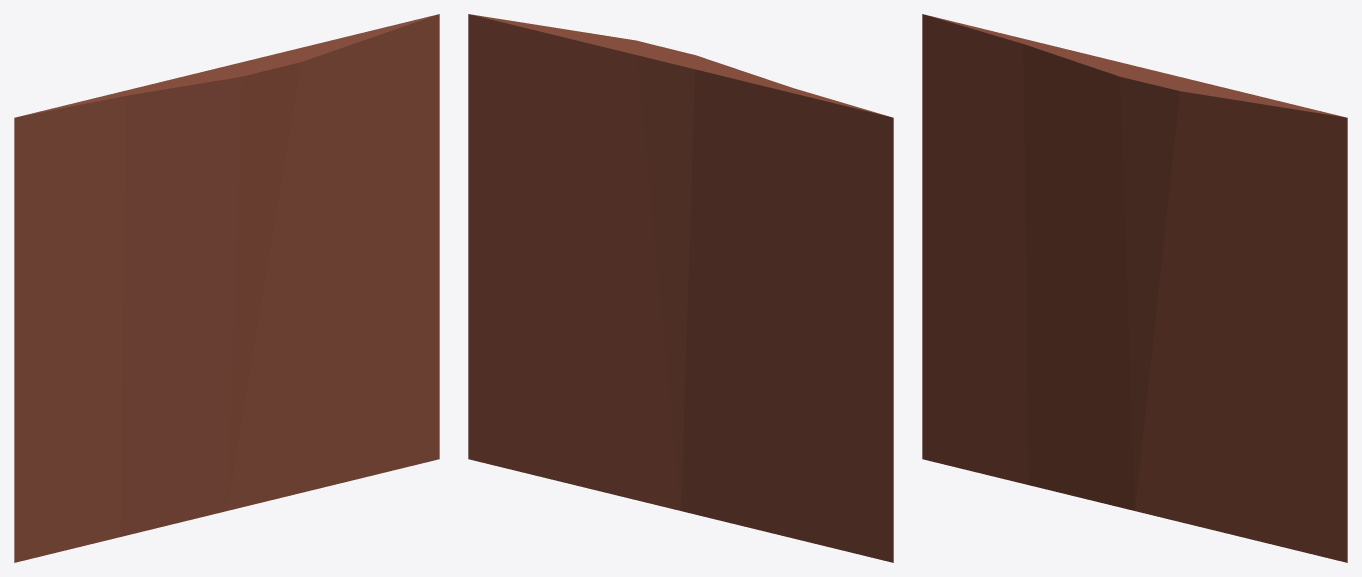
File: Wall_001.FBX
The picture shows the model from 3 angles, left to right: view 1: azimuth 30°, elevation 25°; view 2: azimuth 150°, elevation 25°; view 3: azimuth 330°, elevation 25°; orthographic projection.
Parts seen in each view (by area): view 1: Wall_001; view 2: Wall_001; view 3: Wall_001.
Part boxes in pixels (x1,y1,x2,y2): Wall_001: (14, 14, 439, 562); Wall_001: (468, 14, 893, 562); Wall_001: (922, 14, 1347, 562).
Size of the model in its own units: 78.74 by 78.76 by 4.72.
